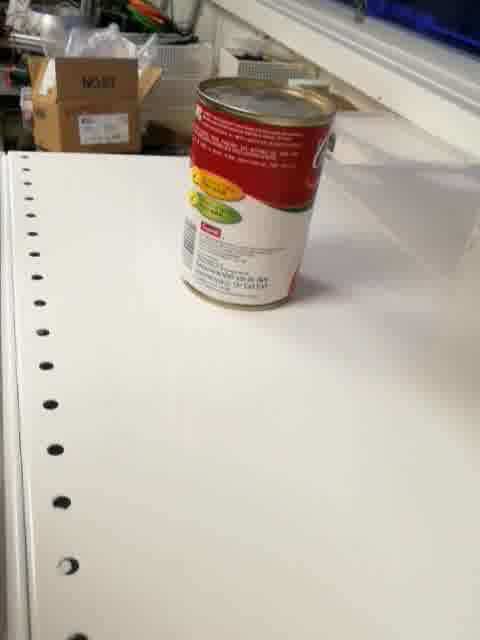tomatosoup: (178, 75, 341, 315)
